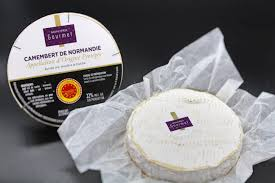camembert: (125, 88, 244, 182)
